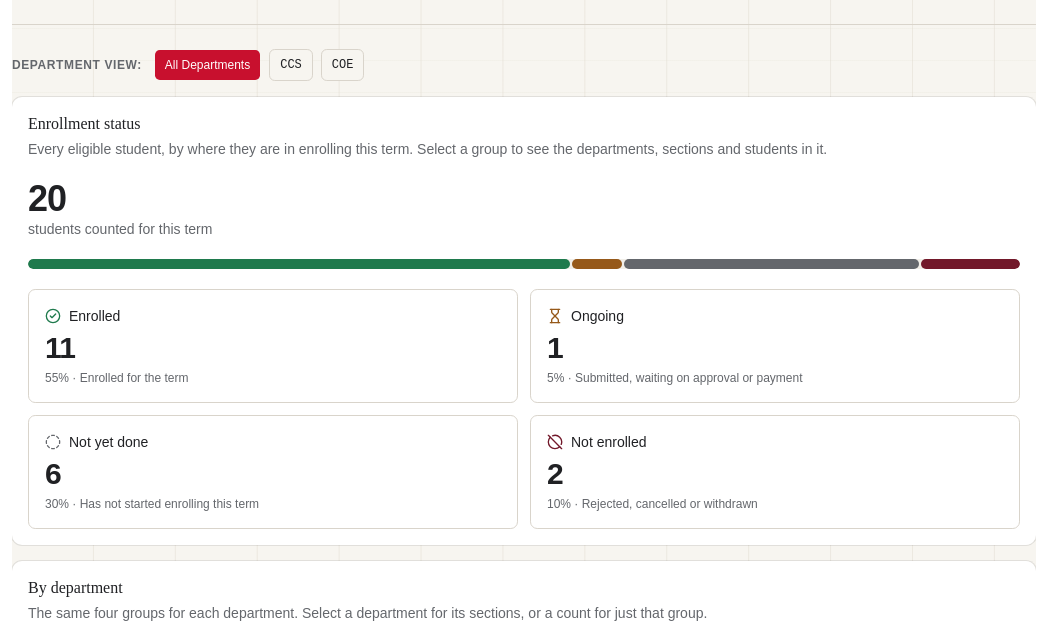
Test: EnrollmentDashboardWorkspace › filters enrollment dashboard and queue by specific department and through View Queue button
This screenshot has width=1048, height=636.
Expected: the button "All Departments" is shown, 154,49 -> 261,81
Expected: the button "COE" is shown, 321,49 -> 364,81
// Click CCS button to view CCS specific department queue
Click the button "CCS" at [291, 65], box 269,49 -> 313,81
(page scrolled)
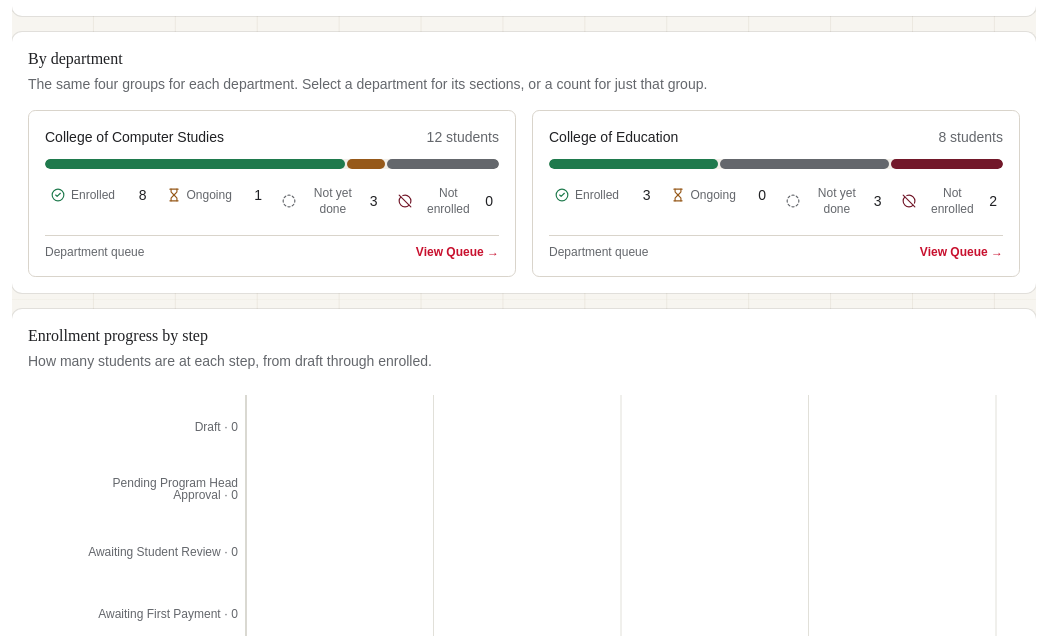
// Second button is for COE
Click the 2nd button "View Queue →" at [961, 252], box 920,244 -> 1003,260
(page scrolled)
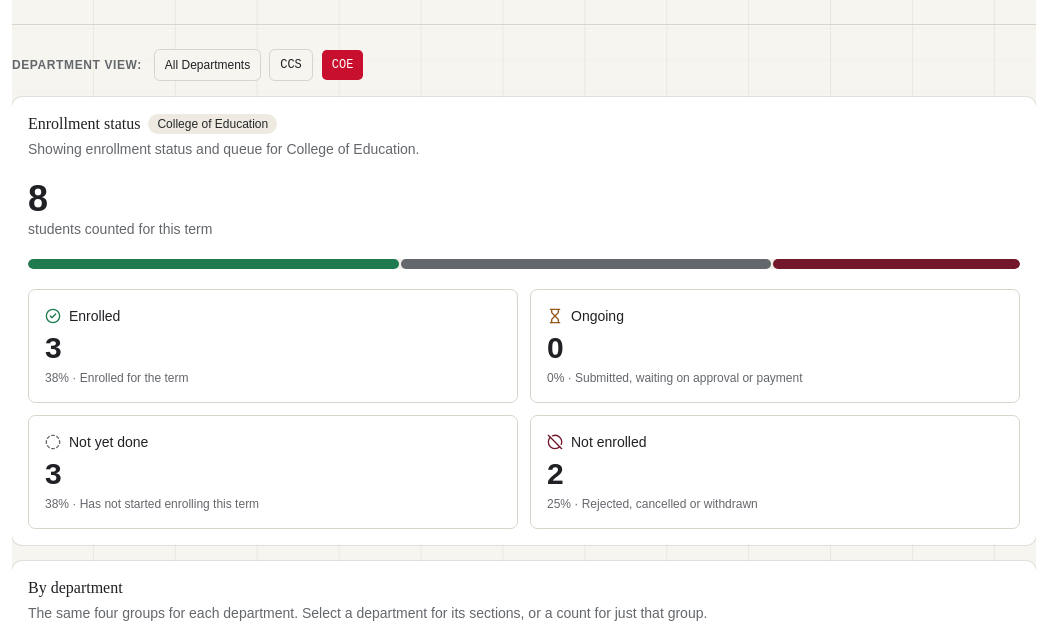
Now the text "8" is shown, box 28,178 -> 47,219
Now the text "Showing enrollment status and queue for College of Education." is shown, box 28,139 -> 420,159
// Switch back to All Departments
Click the button "All Departments" at [208, 65], box 154,49 -> 261,81
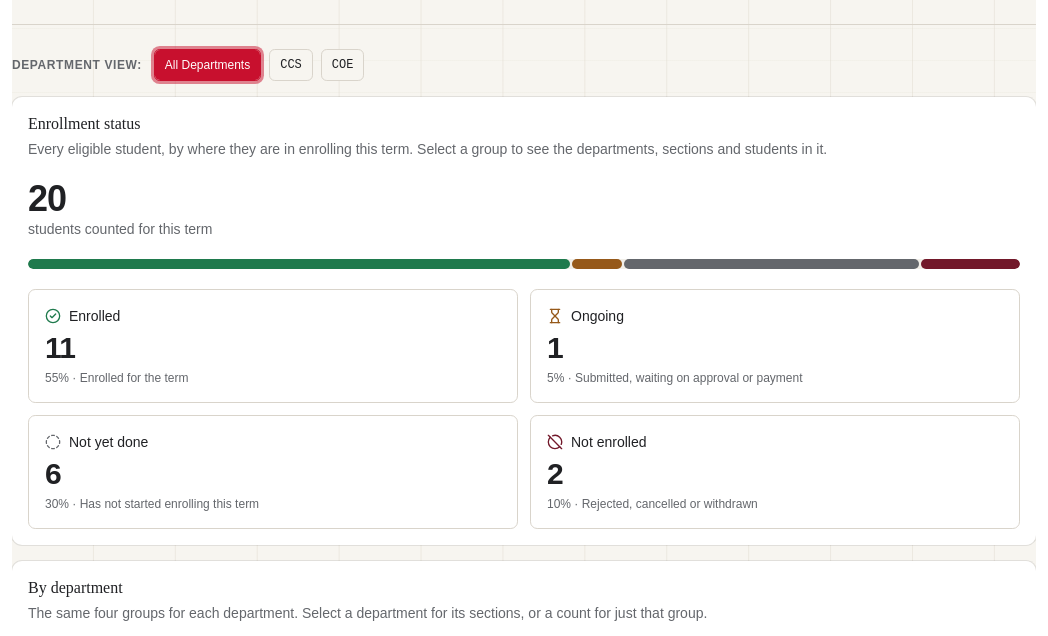
Now the text "20" is shown, box 28,178 -> 66,219
